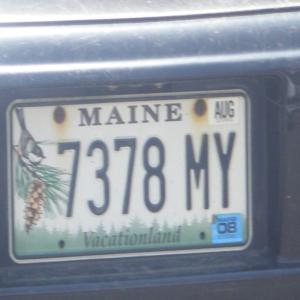Vehicle-registration-plate: (7, 96, 253, 267)
